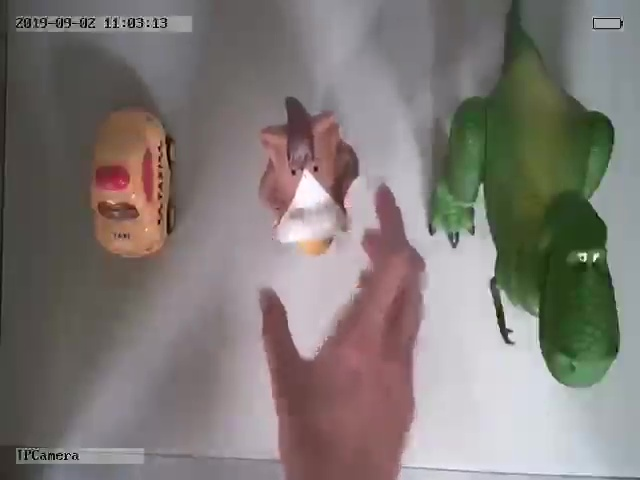car: (88, 105, 178, 258)
horse: (255, 94, 361, 256)
rex: (428, 12, 620, 390)
